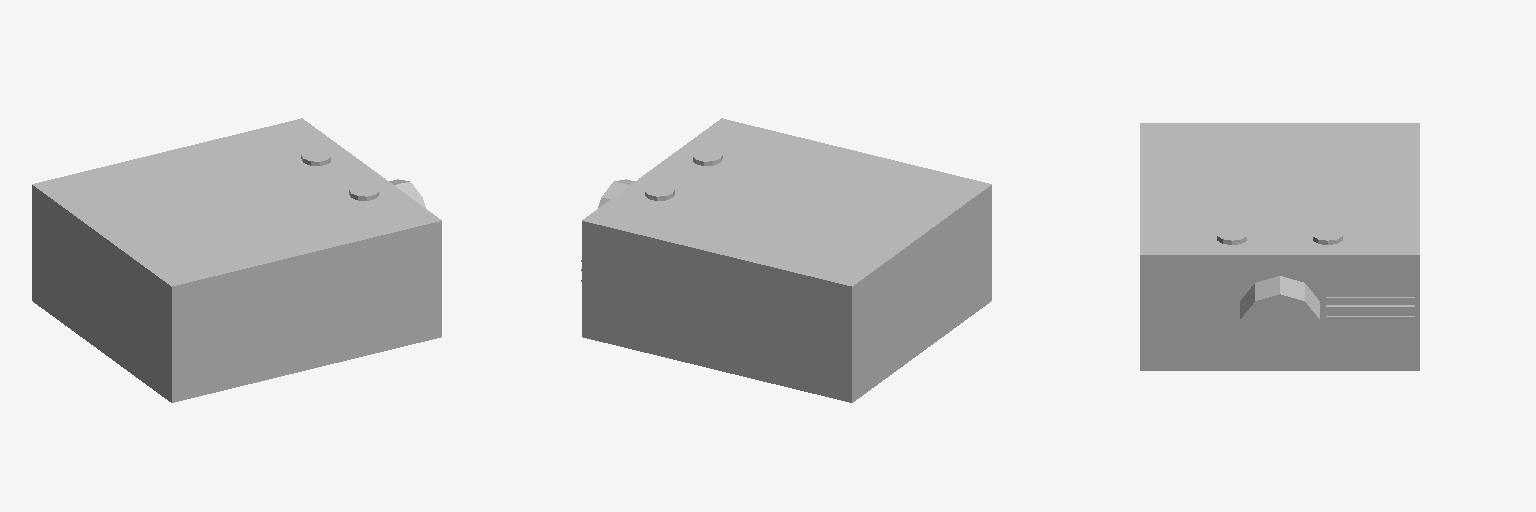
The model's file is Vivitek Projector.obj.
The picture shows the model from 3 angles: view 1: azimuth 30°, elevation 25°; view 2: azimuth 150°, elevation 25°; view 3: azimuth 270°, elevation 25°; orthographic projection.
Parts seen in each view (by area): view 1: 010_Projector_Body; view 2: 010_Projector_Body; view 3: 010_Projector_Body, 009_Optical_Lens.
Boxes of the visible parts, <box> form: 010_Projector_Body: <box>32,118,441,402</box>; 010_Projector_Body: <box>582,118,991,402</box>; 010_Projector_Body: <box>1140,123,1419,370</box>; 009_Optical_Lens: <box>1240,276,1319,367</box>.
Size of the model in its own units: 5.99 by 2.32 by 4.7.